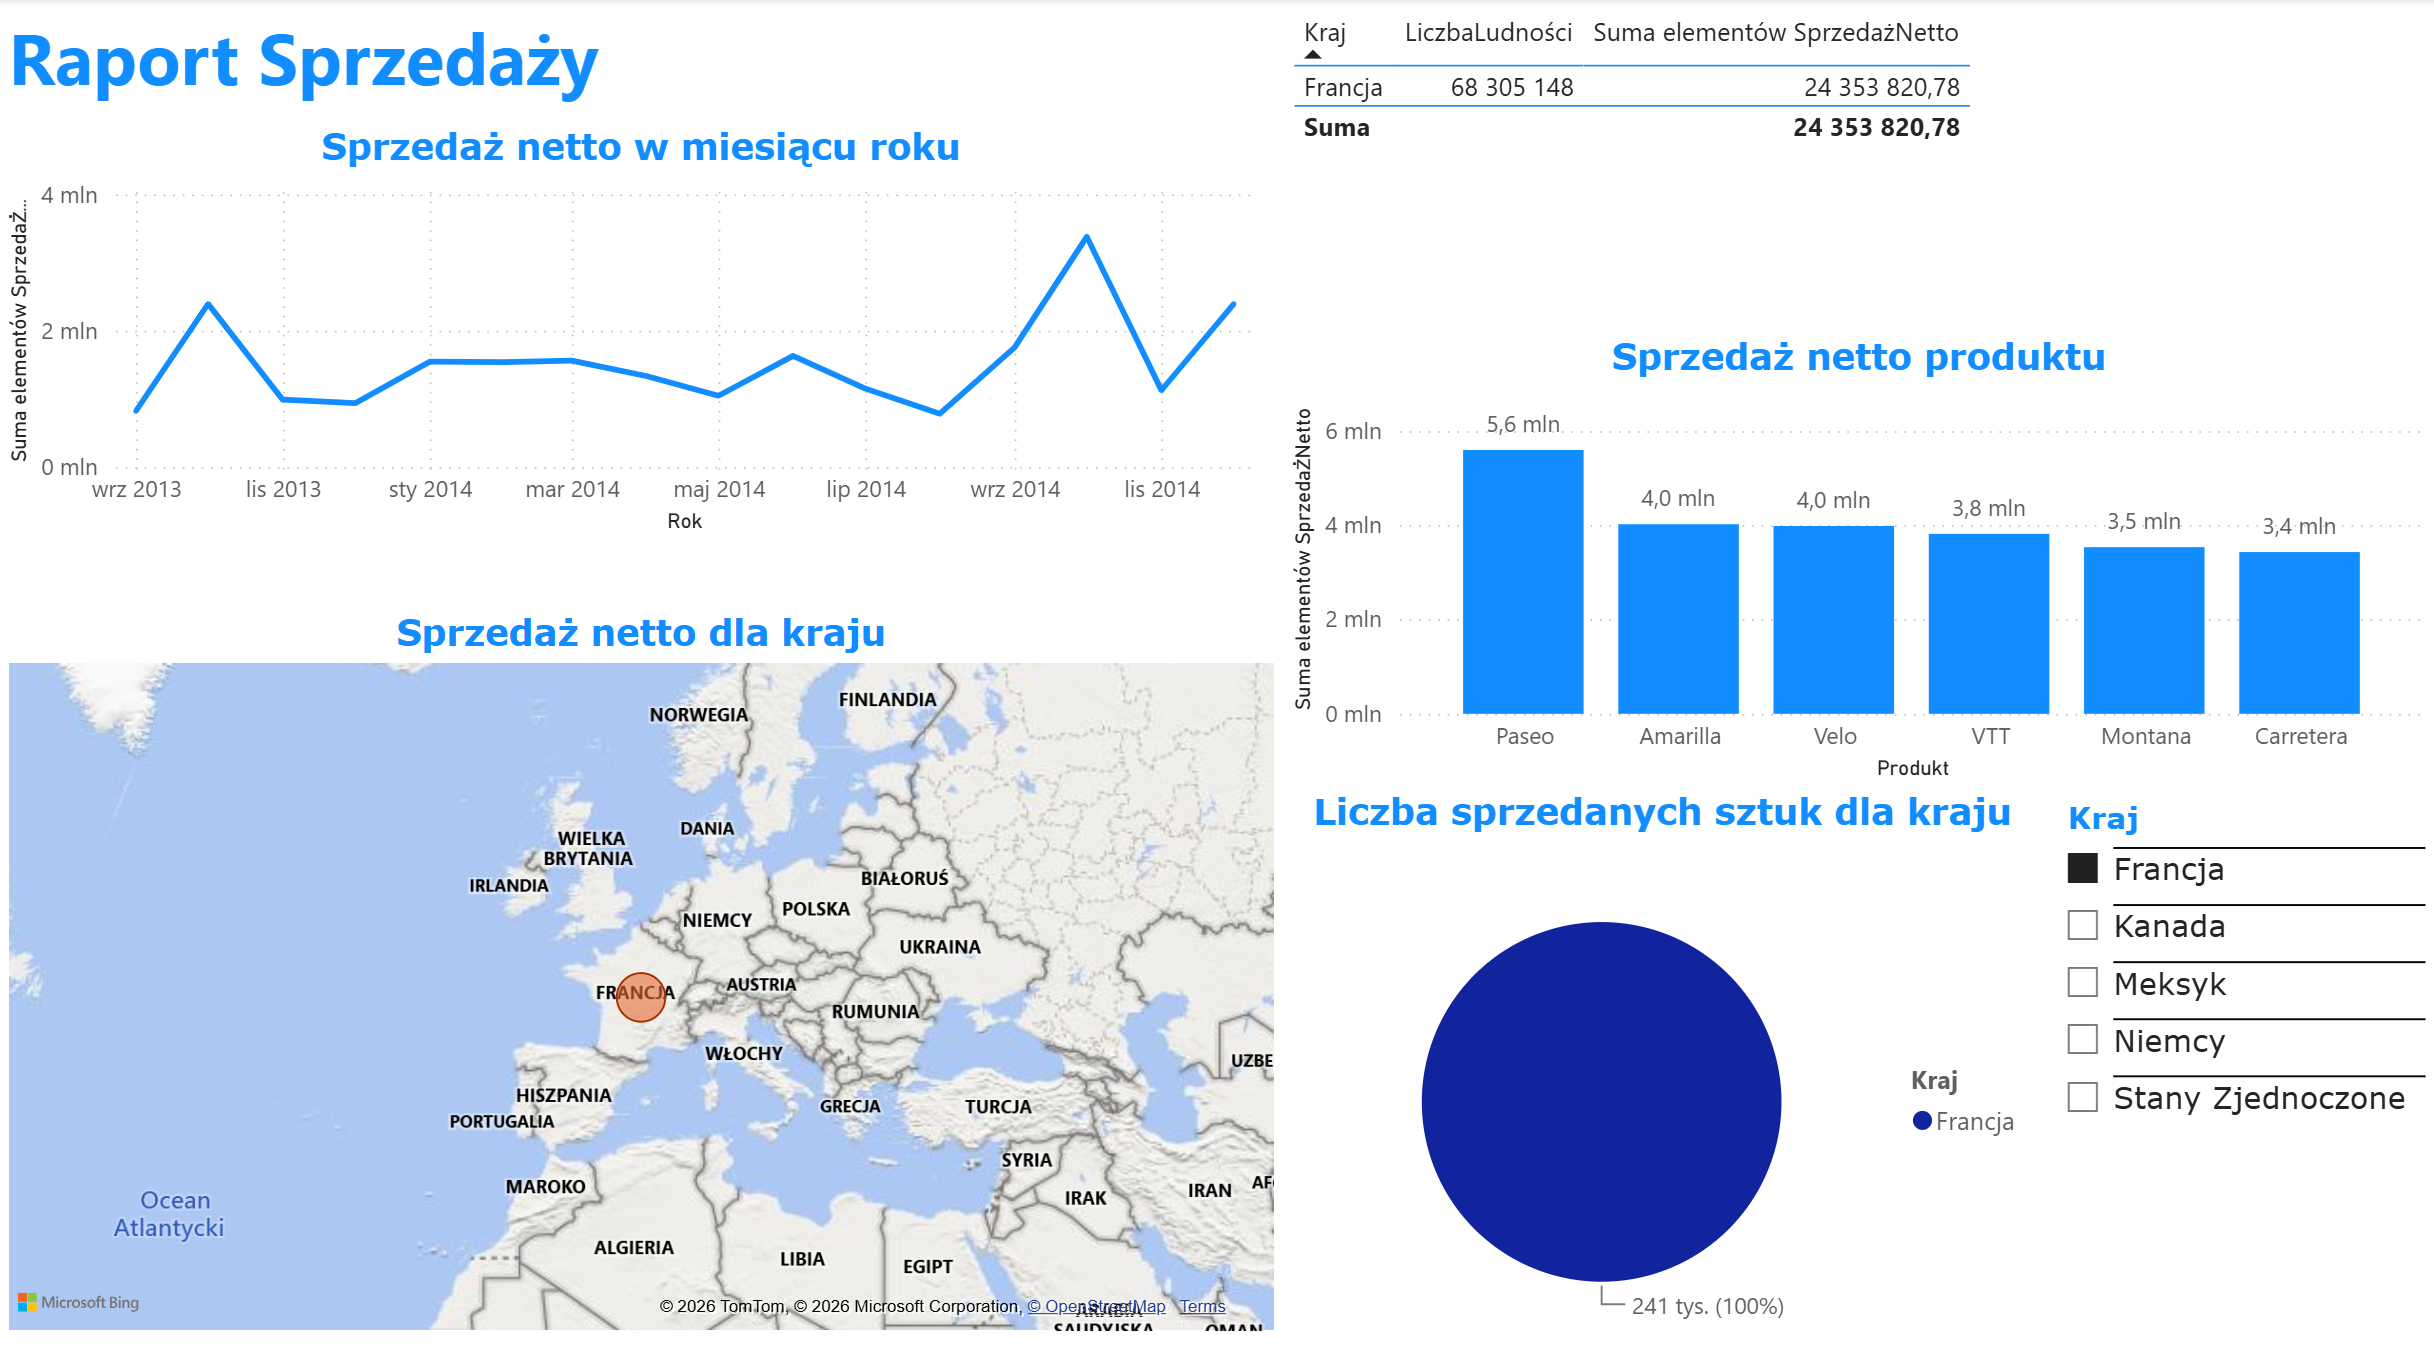

The page's visual inventory and layout, read from the dashboard file:
{"tool":"powerbi","page":{"name":"Strona 1","canvas":[1280,720],"ordinal":0},"visuals":[{"type":"textbox","box":[0,0,374.6,65.9],"z":0},{"type":"lineChart","title":"Sprzedaż netto w miesiącu roku","fields":{"Y":["Sum(sprzedaż.SprzedażNetto)"],"Category":["sprzedaż.Data.Odmiana.Hierarchia dat.Rok","sprzedaż.Data.Odmiana.Hierarchia dat.Kwartał","sprzedaż.Data.Odmiana.Hierarchia dat.Miesiąc","sprzedaż.Data.Odmiana.Hierarchia dat.Dzień"]},"box":[0,66.2,674.8,219.2],"z":1000},{"type":"map","title":"Sprzedaż netto dla kraju","fields":{"Category":["sprzedaż.Kraj"],"Size":["Sum(sprzedaż.SprzedażNetto)"]},"box":[0,321.7,674.8,383.2],"z":2000},{"type":"tableEx","fields":{"Values":["sprzedaż.Kraj","sprzedaż.LiczbaLudności","Sum(sprzedaż.SprzedażNetto)"]},"box":[674.8,1.6,529.8,175],"z":3000},{"type":"columnChart","title":"Sprzedaż netto produktu","fields":{"Category":["sprzedaż.Produkt"],"Y":["Sum(sprzedaż.SprzedażNetto)"]},"box":[674.8,176.6,605.5,238.1],"z":4000},{"type":"pieChart","title":"Liczba sprzedanych sztuk dla kraju","fields":{"Category":["sprzedaż.Kraj"],"Y":["Sum(sprzedaż.Sprzedane_sztuki)"]},"box":[674.8,414.7,398.9,305.9],"z":5000},{"type":"slicer","fields":{"Values":["sprzedaż.Kraj"]},"box":[1074,415,206,305],"z":6000}]}

Visuals, with their boxes in screenshot pixels (x1, y1, x2, y2), scaled from the page's 1280x720 canvas onto the 2434x1366 screenshot:
textbox: [x1=0, y1=0, x2=712, y2=125]
"Sprzedaż netto w miesiącu roku" lineChart: [x1=0, y1=126, x2=1283, y2=541]
"Sprzedaż netto dla kraju" map: [x1=0, y1=610, x2=1283, y2=1337]
tableEx - sprzedaż.Kraj x sprzedaż.LiczbaLudności: [x1=1283, y1=3, x2=2291, y2=335]
"Sprzedaż netto produktu" columnChart: [x1=1283, y1=335, x2=2433, y2=787]
"Liczba sprzedanych sztuk dla kraju" pieChart: [x1=1283, y1=787, x2=2042, y2=1365]
slicer - sprzedaż.Kraj: [x1=2042, y1=787, x2=2433, y2=1365]
